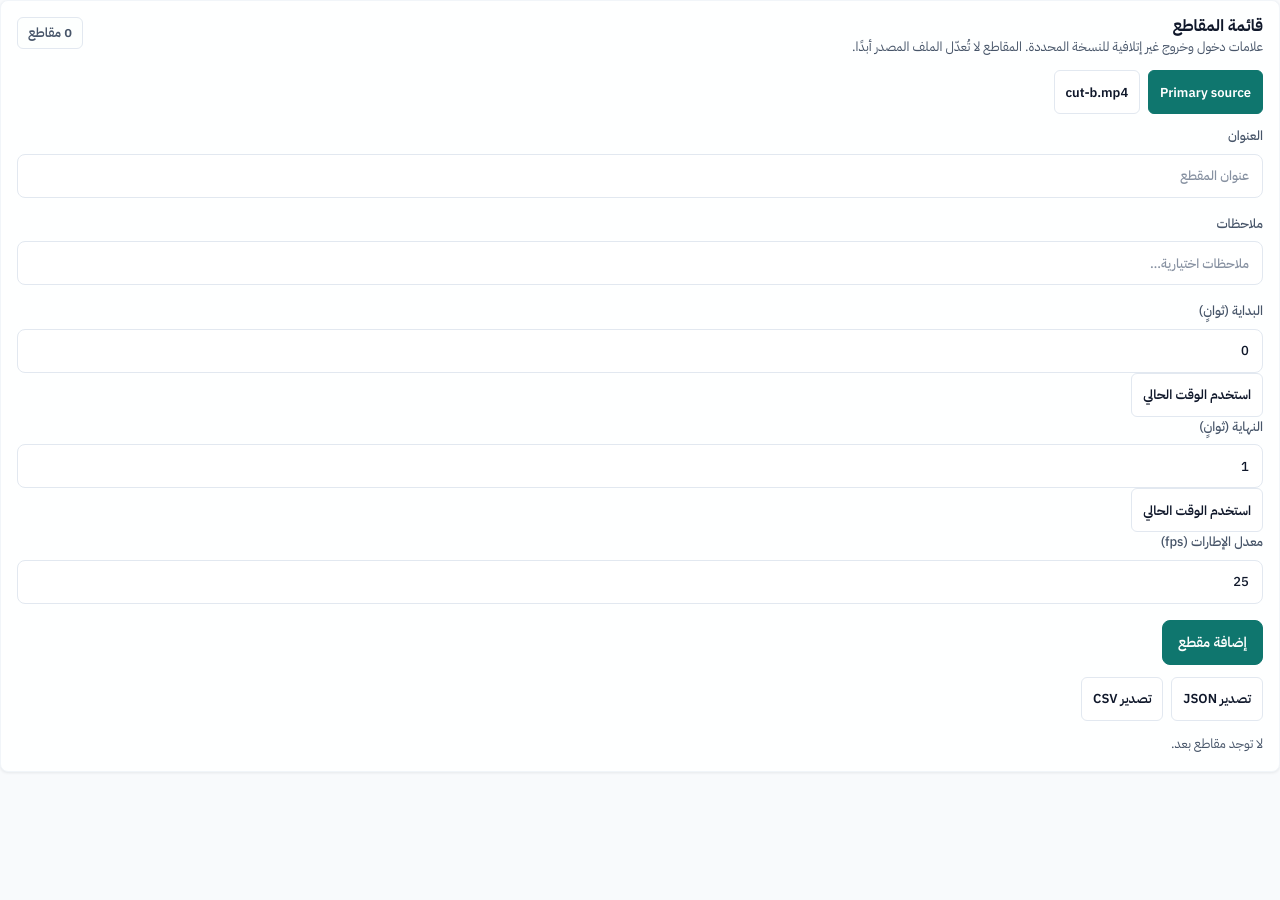
Test: ClipListPanel › lists clips scoped to version A and creates a new clip
Type "Opening" into the field with placeholder "عنوان المقطع".
click(640, 176); type("Opening")  # box [17,154,1263,198]
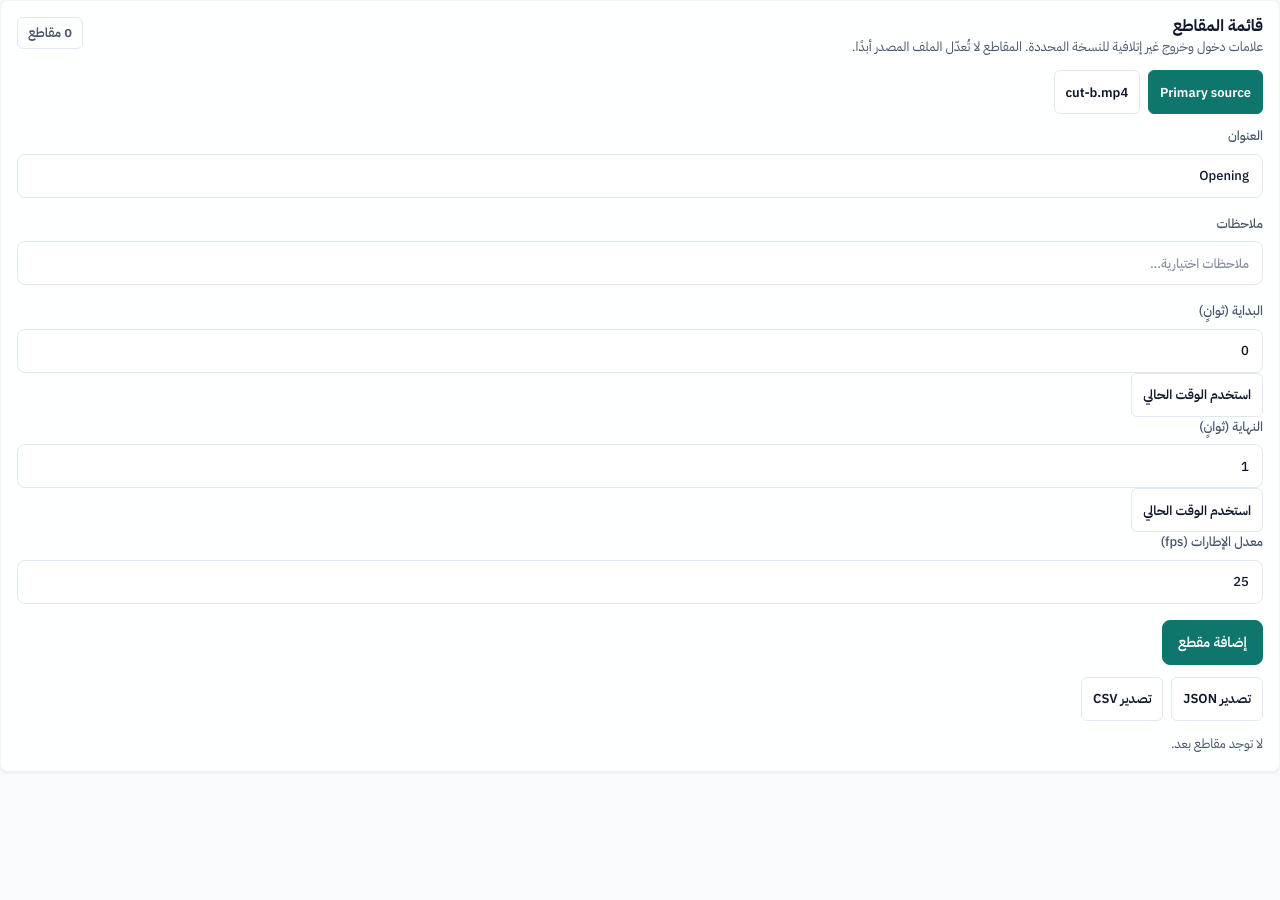
Click the button "إضافة مقطع".
click(1212, 642)  # box [1162,620,1263,665]
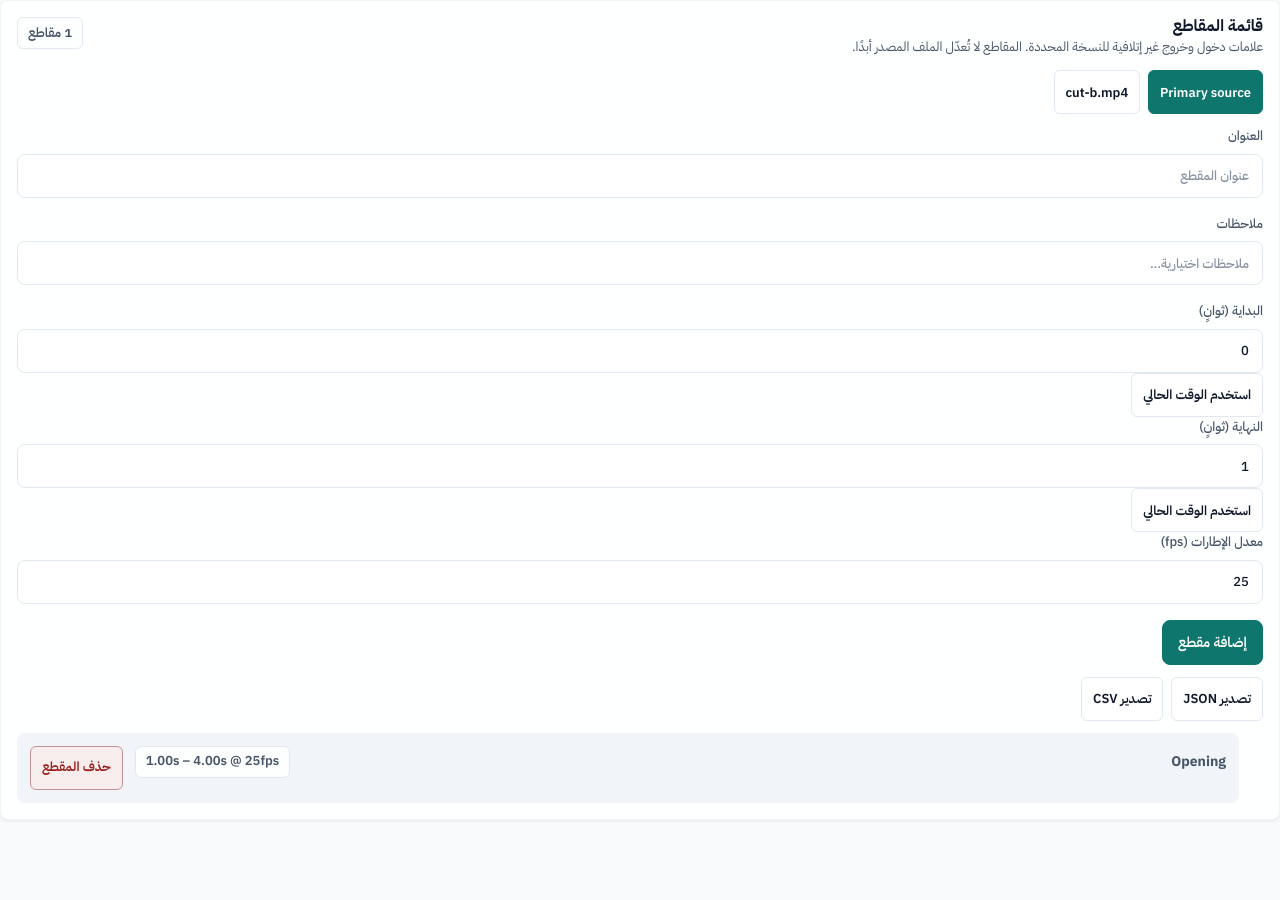
Now the text "Opening" is shown, box [1171,750,1226,773]
